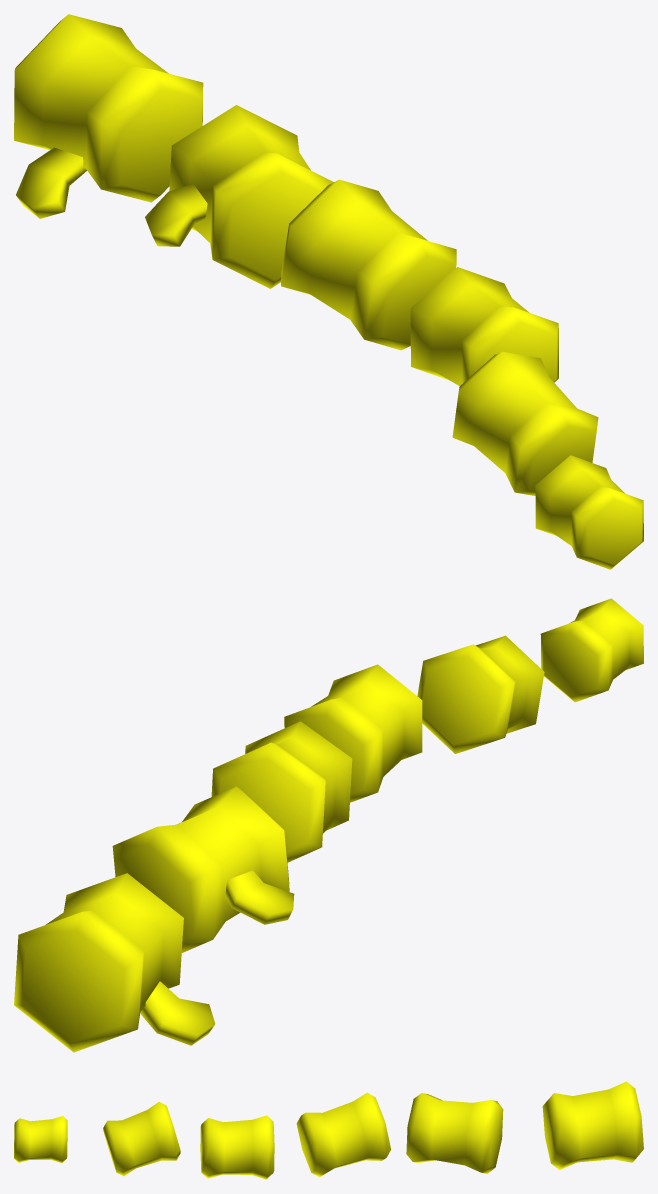
File: bone_whale_tail02.glb
The picture shows the model from 3 angles, top to bottom: view 1: azimuth 30°, elevation 25°; view 2: azimuth 150°, elevation 25°; view 3: azimuth 270°, elevation 25°; orthographic projection. The views are drawn at different scales.
Visible parts, largest first — view 1: bone_whale_tail02; view 2: bone_whale_tail02; view 3: bone_whale_tail02.
Boxes of the visible parts, bbox=[...] form: bone_whale_tail02: bbox=[14, 14, 643, 569]; bone_whale_tail02: bbox=[14, 598, 643, 1052]; bone_whale_tail02: bbox=[14, 1081, 643, 1179].
Size of the model in its own units: 3 by 2.27 by 14.76.
1 material, 1 textured.
